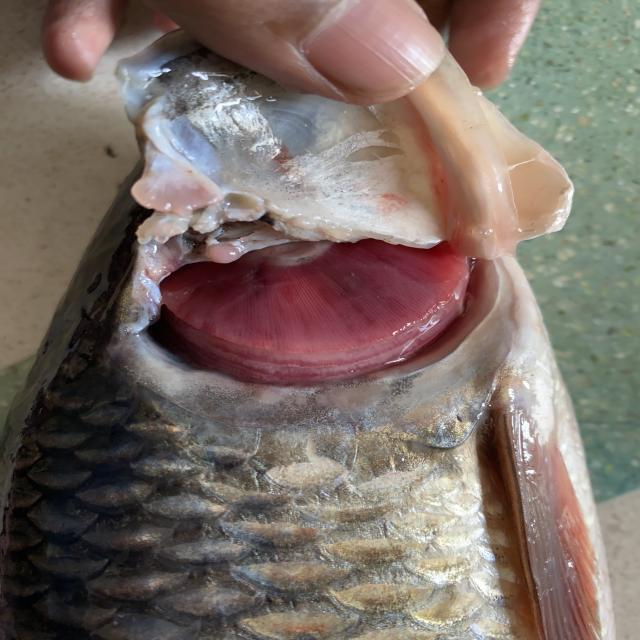Fresh: (93, 184, 504, 398)
